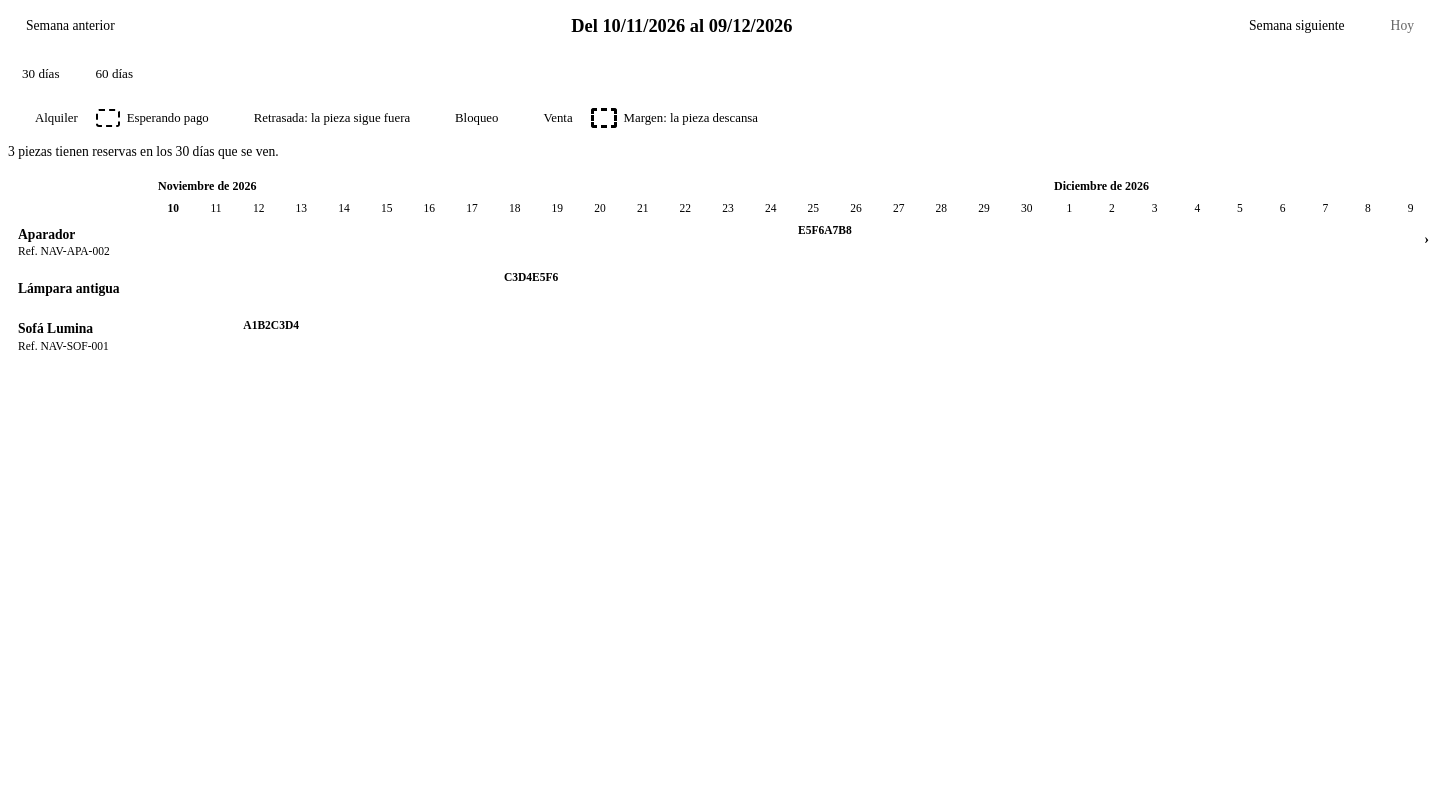
it: VistaGeneral: el detalle › pulsar una barra abre su reserva, sin título de día
Click the button "A1B2C3D4": (344, 335) [237,319,451,351]
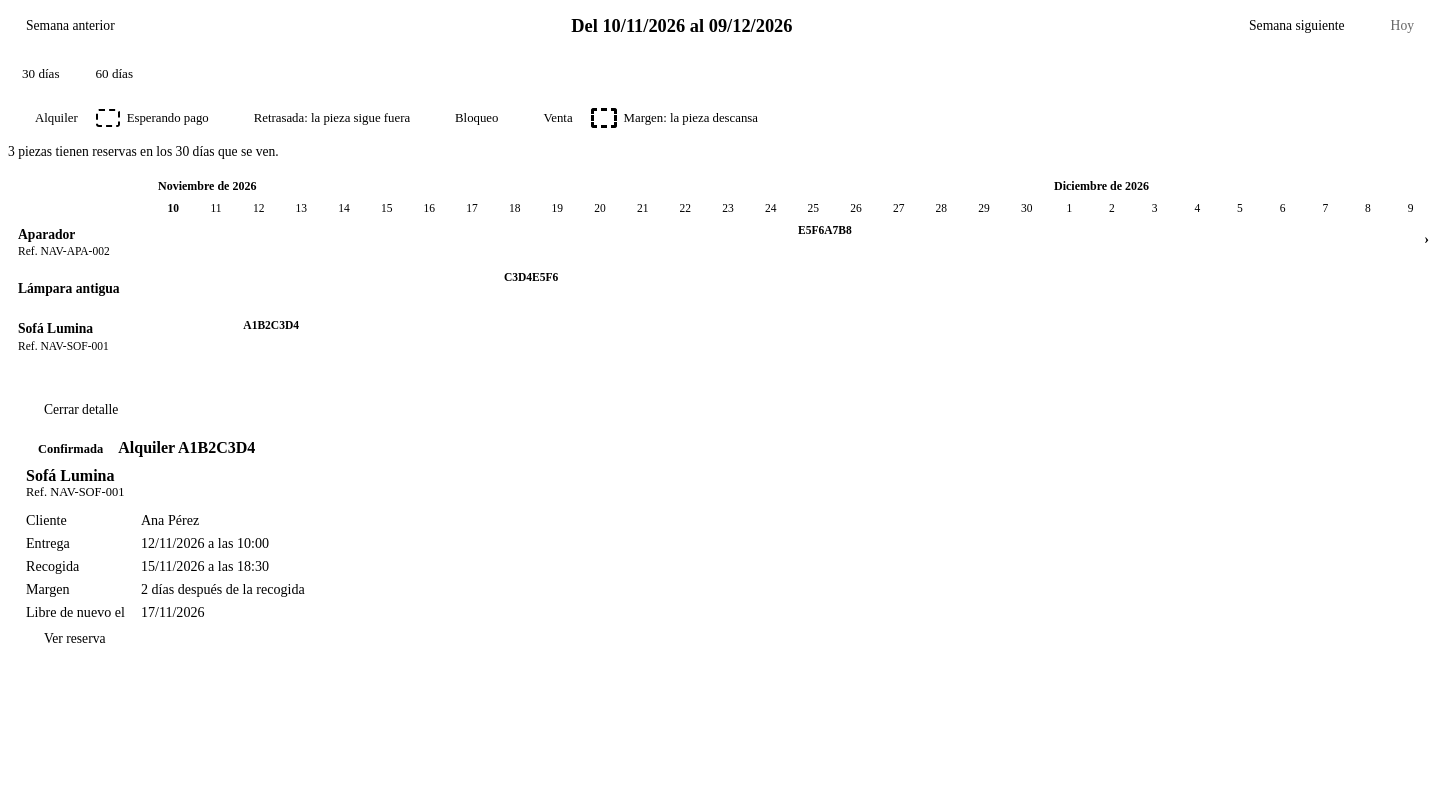
Result: the heading "Confirmada Alquiler A1B2C3D4" is shown at [38,439,255,456]
